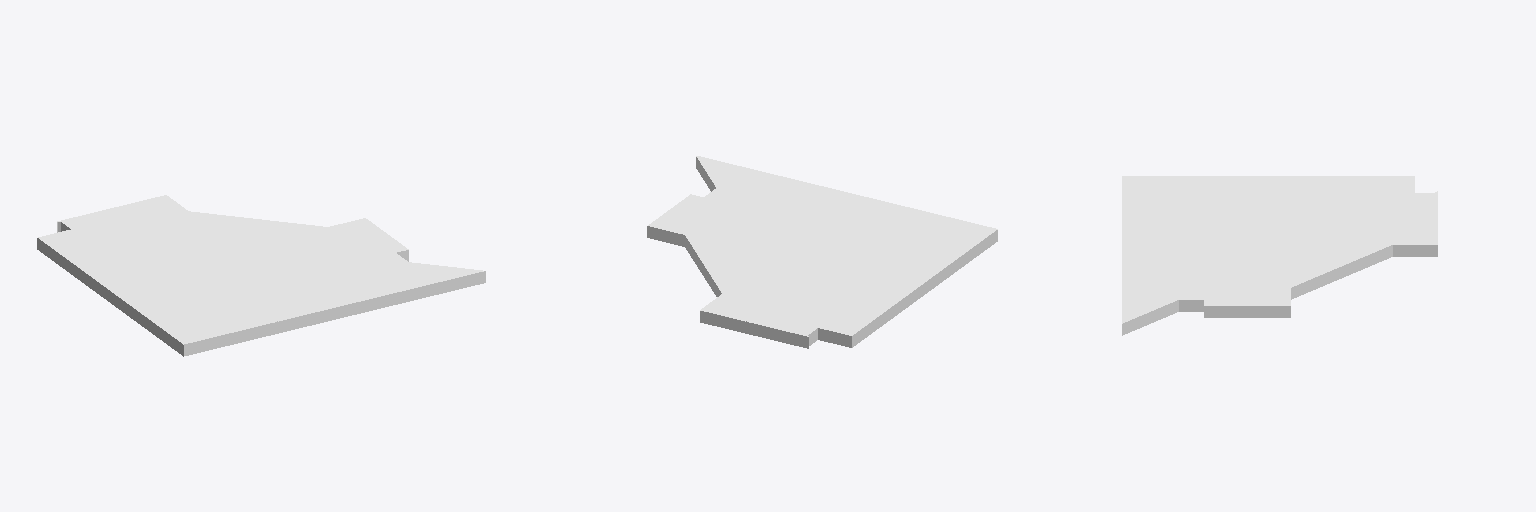
3 views of the same model, side by side, from view 1: azimuth 30°, elevation 25°; view 2: azimuth 150°, elevation 25°; view 3: azimuth 270°, elevation 25° (orthographic).
Parts seen in each view (by area): view 1: swearingen_floorplan; view 2: swearingen_floorplan; view 3: swearingen_floorplan.
Boxes of the visible parts, x1=… form: swearingen_floorplan: x1=37, y1=195, x2=485, y2=356; swearingen_floorplan: x1=647, y1=156, x2=997, y2=348; swearingen_floorplan: x1=1122, y1=176, x2=1437, y2=335.
Bounding box in the file's own units: 103 × 3.93 × 93.45.